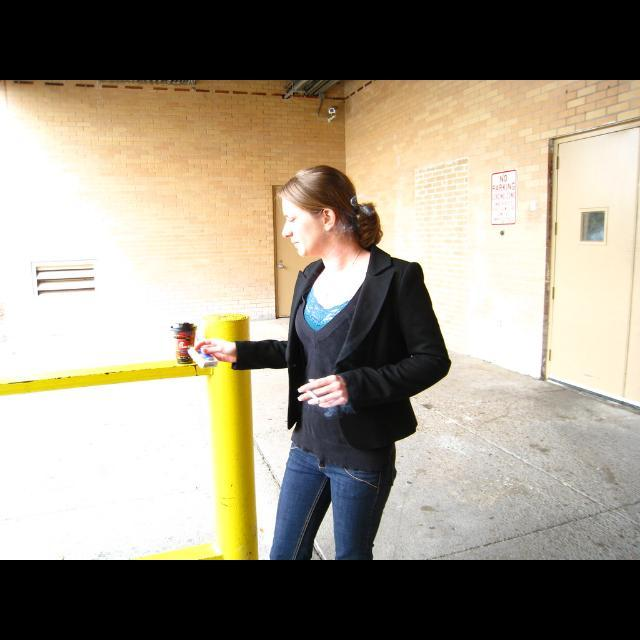rokok: (304, 388, 322, 404)
